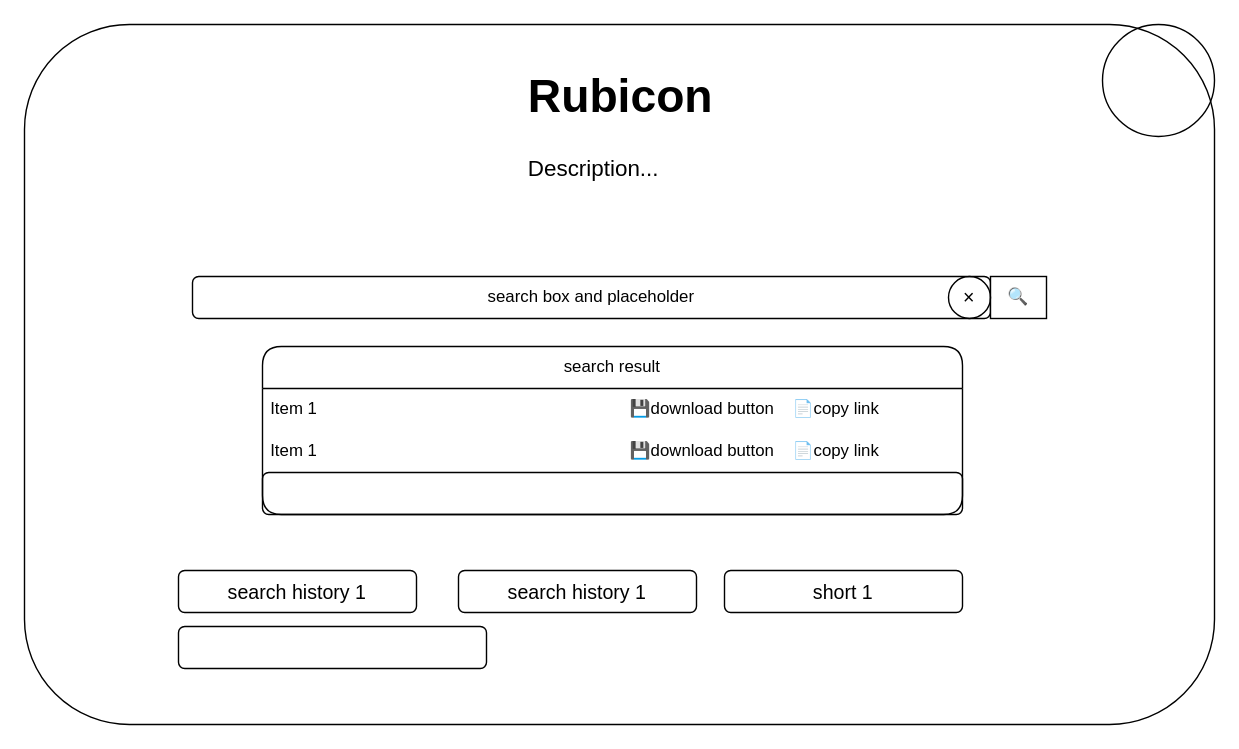
Image size: 1239x749. Some labels were removed from this diagram. Each missing label, with the centre of its shape:
result footer, with show more button, default 5 result: (611,492)
setting button: (1157,79)
super long word search history 1: (331,646)
